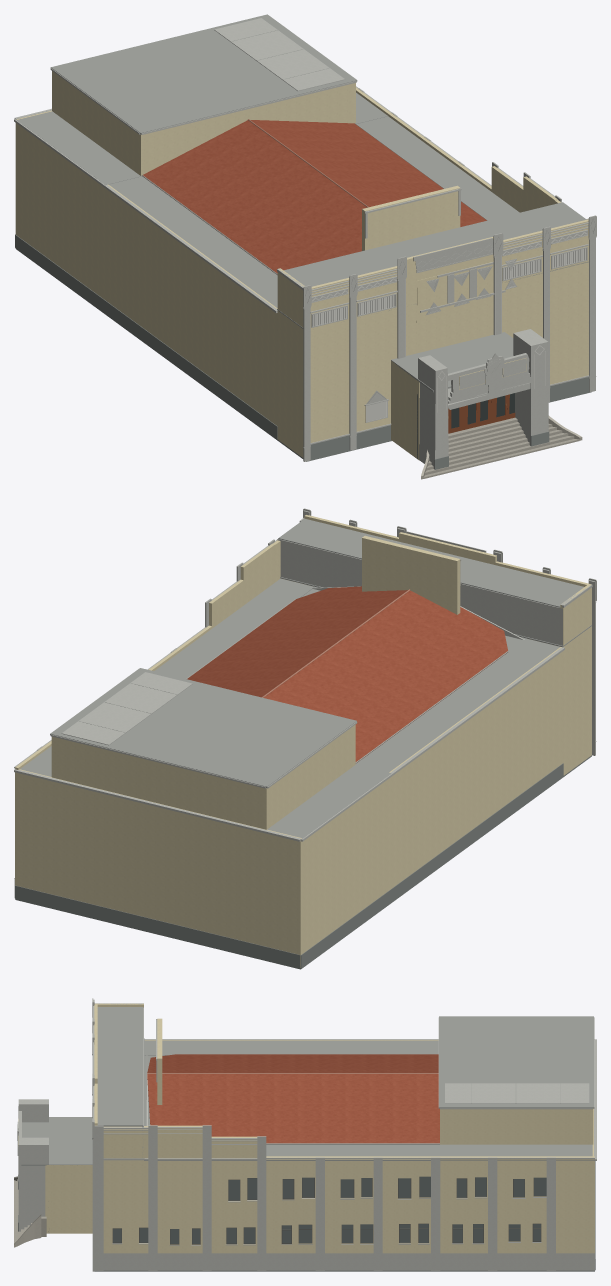
Rendered from xuhui-shanghai-high-school-historic-auditorium-lod.glb.
3 renders of one model, top to bottom at view 1: azimuth 30°, elevation 25°; view 2: azimuth 150°, elevation 25°; view 3: azimuth 270°, elevation 25°, orthographic. The views are drawn at different scales.
Parts seen in each view (by area): view 1: 上海中学历史大礼堂; view 2: 上海中学历史大礼堂; view 3: 上海中学历史大礼堂.
Boxes of the visible parts, box(x1,y1,x2,y2) form: 上海中学历史大礼堂: box(14, 14, 596, 479); 上海中学历史大礼堂: box(14, 508, 596, 969); 上海中学历史大礼堂: box(14, 998, 596, 1271).
Size of the model in its own units: 32.35 by 21.21 by 64.75.
Materials: 16 (4 with a texture image).
